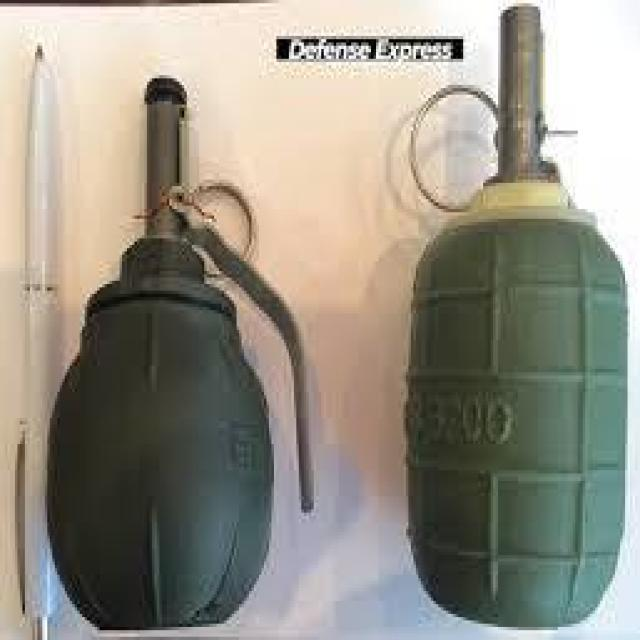grenade: (48, 42, 316, 630), (398, 6, 635, 627)
